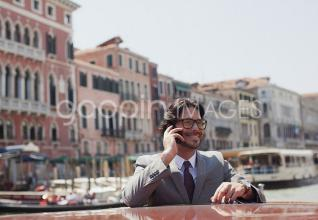phone: (163, 120, 186, 147)
talk: (162, 114, 206, 154)
